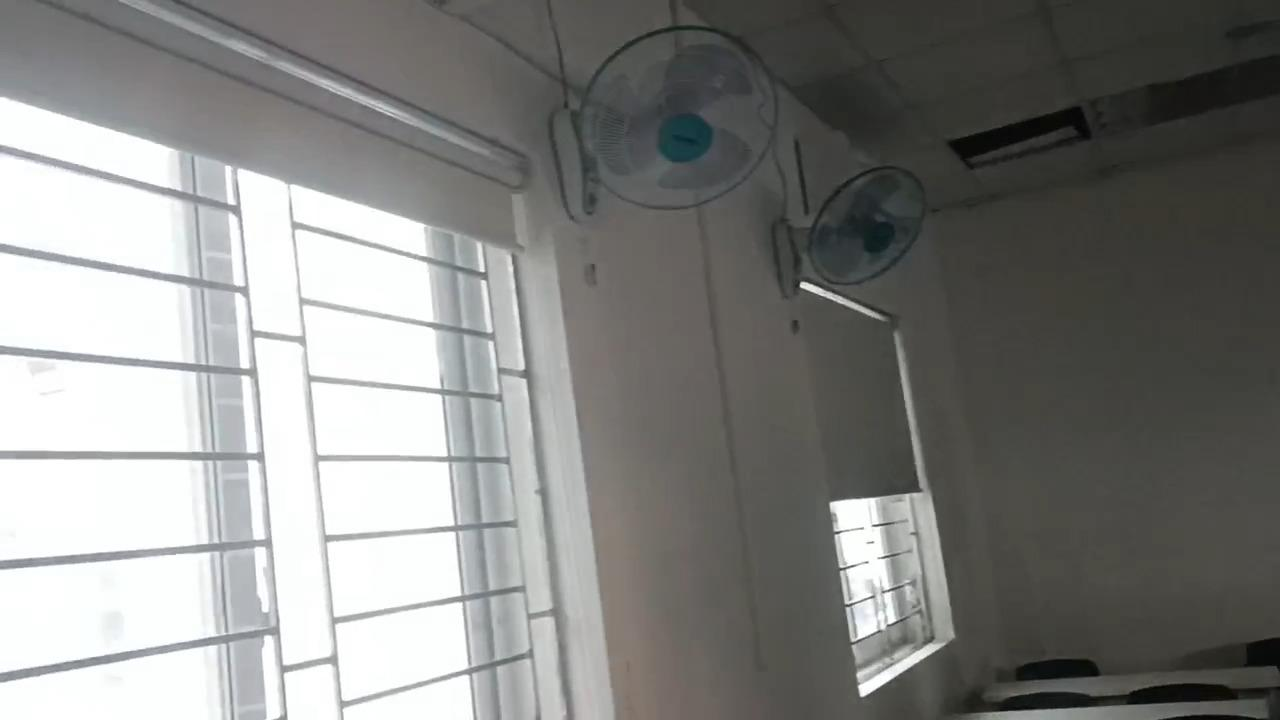chair: (1125, 682, 1235, 704), (1015, 658, 1100, 679), (1000, 694, 1095, 708), (1245, 638, 1279, 667)
fan: (554, 29, 777, 218), (771, 166, 925, 295)
table: (988, 664, 1279, 700), (940, 702, 1263, 719)
